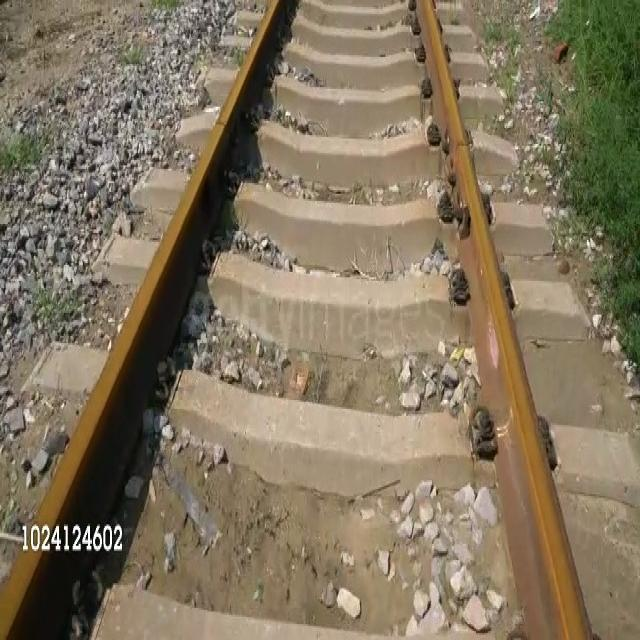Plant: (547, 0, 639, 368), (37, 291, 80, 318), (1, 137, 36, 166), (125, 44, 144, 67)
